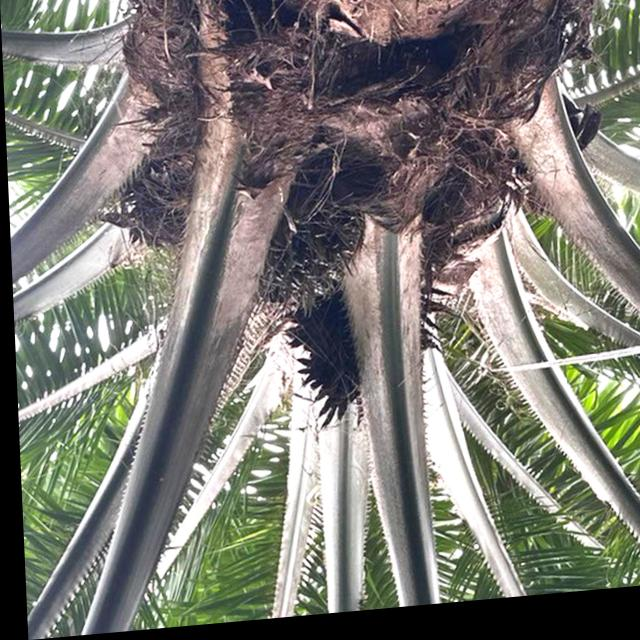unripe: (233, 180, 372, 330)
